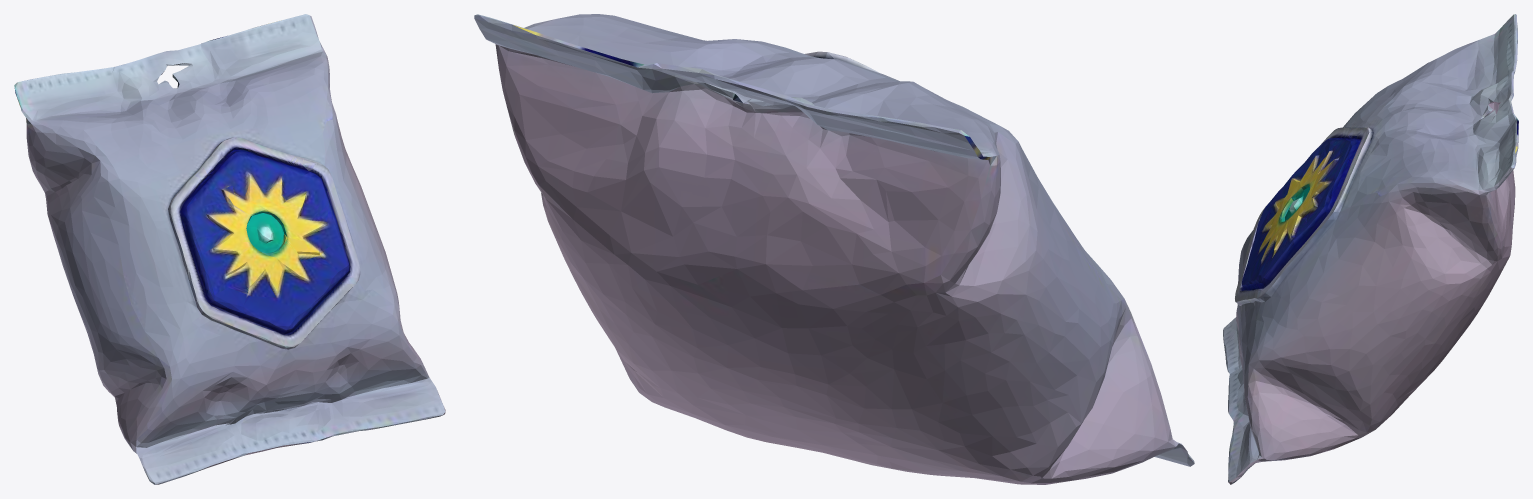
The model's file is snack_pack.glb.
3 views of the same model, side by side, from view 1: azimuth 30°, elevation 25°; view 2: azimuth 150°, elevation 25°; view 3: azimuth 270°, elevation 25° (orthographic). The views are drawn at different scales.
Parts seen in each view (by area): view 1: tmptlalrnr3.ply; view 2: tmptlalrnr3.ply; view 3: tmptlalrnr3.ply.
Part boxes in pixels (box(x1,y1,x2,y2)): tmptlalrnr3.ply: box(14, 14, 445, 484); tmptlalrnr3.ply: box(474, 14, 1194, 484); tmptlalrnr3.ply: box(1223, 14, 1518, 484).
Bounding box in the file's own units: 1.99 × 1.93 × 1.61.
1 material, 1 textured.
